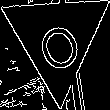O_NW: (29, 6, 85, 72)
